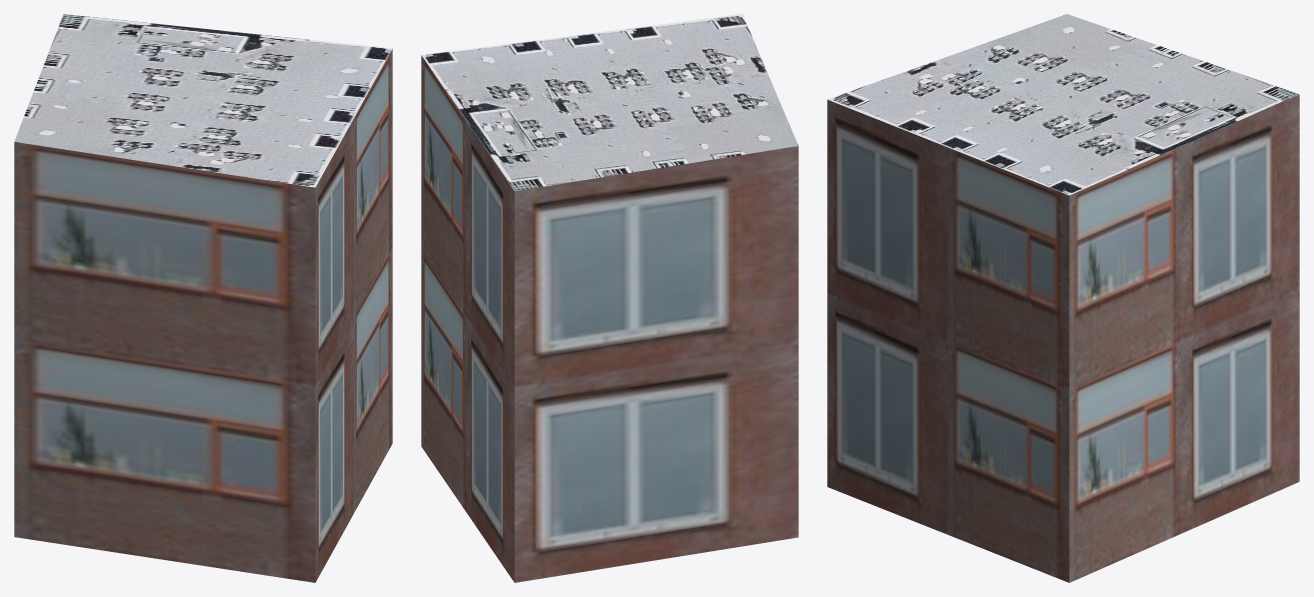
File: ResTex__85.fbx
3 views of the same model, side by side, from view 1: azimuth 30°, elevation 25°; view 2: azimuth 150°, elevation 25°; view 3: azimuth 270°, elevation 25° (orthographic). The views are drawn at different scales.
Parts seen in each view (by area): view 1: CityEngineMaterial_19_m, CityEngineMaterial_15_m; view 2: CityEngineMaterial_19_m, CityEngineMaterial_15_m; view 3: CityEngineMaterial_19_m, CityEngineMaterial_15_m.
Part boxes in pixels (left/top/right/bottom): CityEngineMaterial_19_m: left=14, top=49, right=392, bottom=582; CityEngineMaterial_15_m: left=14, top=14, right=392, bottom=187; CityEngineMaterial_19_m: left=421, top=55, right=798, bottom=582; CityEngineMaterial_15_m: left=421, top=14, right=798, bottom=191; CityEngineMaterial_19_m: left=827, top=94, right=1299, bottom=582; CityEngineMaterial_15_m: left=827, top=14, right=1299, bottom=195.
Bounding box in the file's own units: 6.03 × 6 × 6.63.
Materials: 2 (2 with a texture image).
